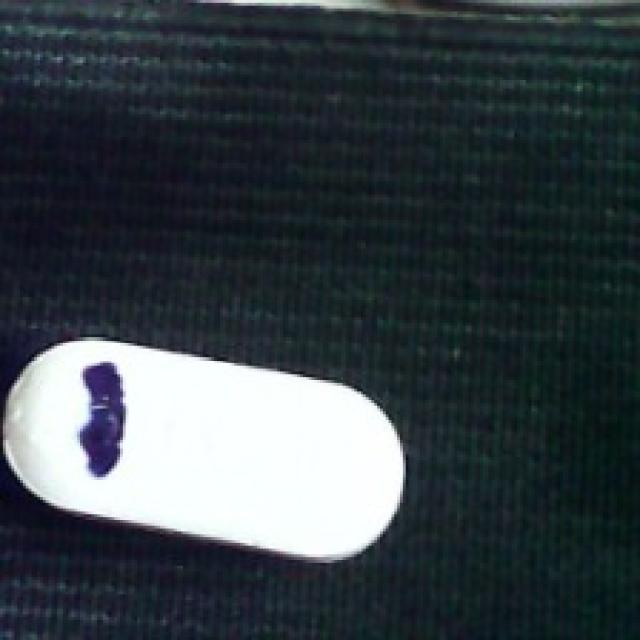defected: (0, 337, 411, 565)
